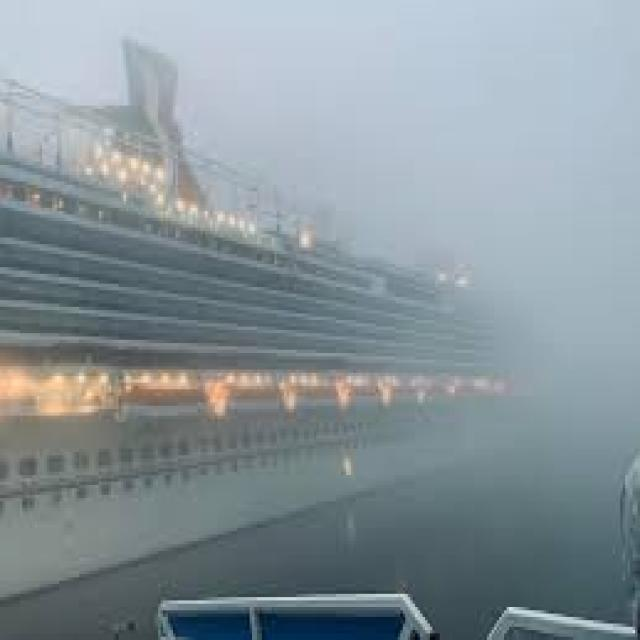passenger ship: (18, 55, 579, 566)
